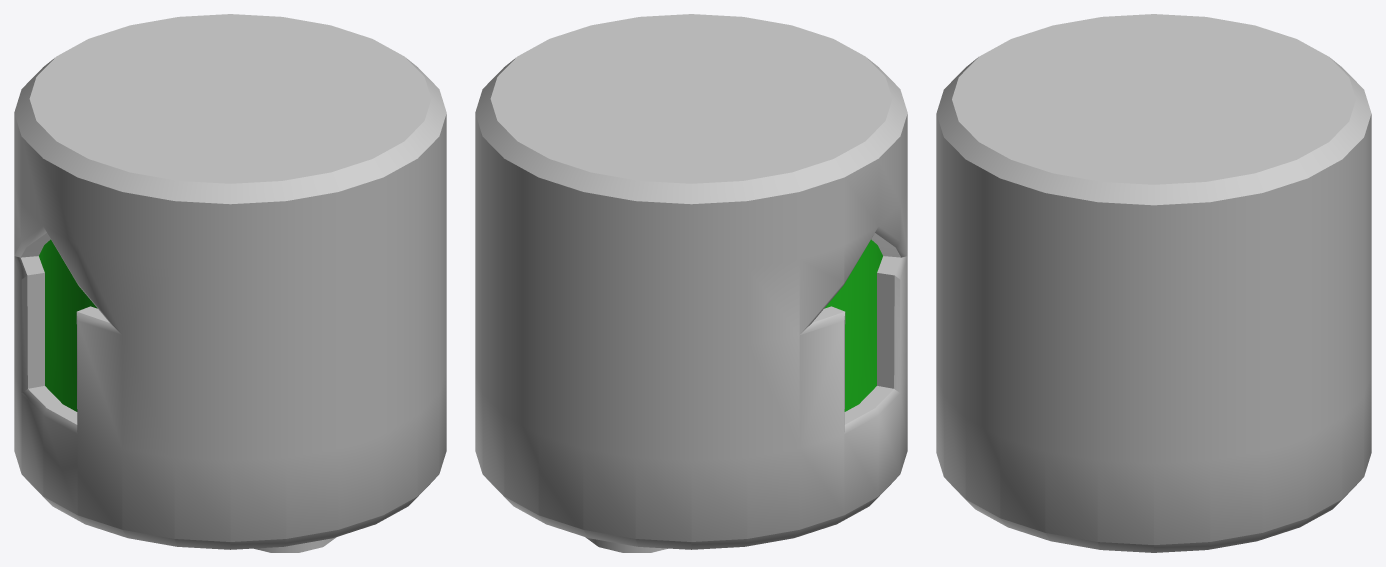
Rendered from plug.fbx.
3 views of the same model, side by side, from view 1: azimuth 30°, elevation 25°; view 2: azimuth 150°, elevation 25°; view 3: azimuth 270°, elevation 25° (orthographic).
Visible parts, largest first — view 1: battery; view 2: battery; view 3: battery.
Boxes of the visible parts, x1,y1,x2,y2 form: battery: (14,14,446,552); battery: (475,14,907,552); battery: (936,14,1371,552).
Bounding box in the file's own units: 60 × 60 × 60.
